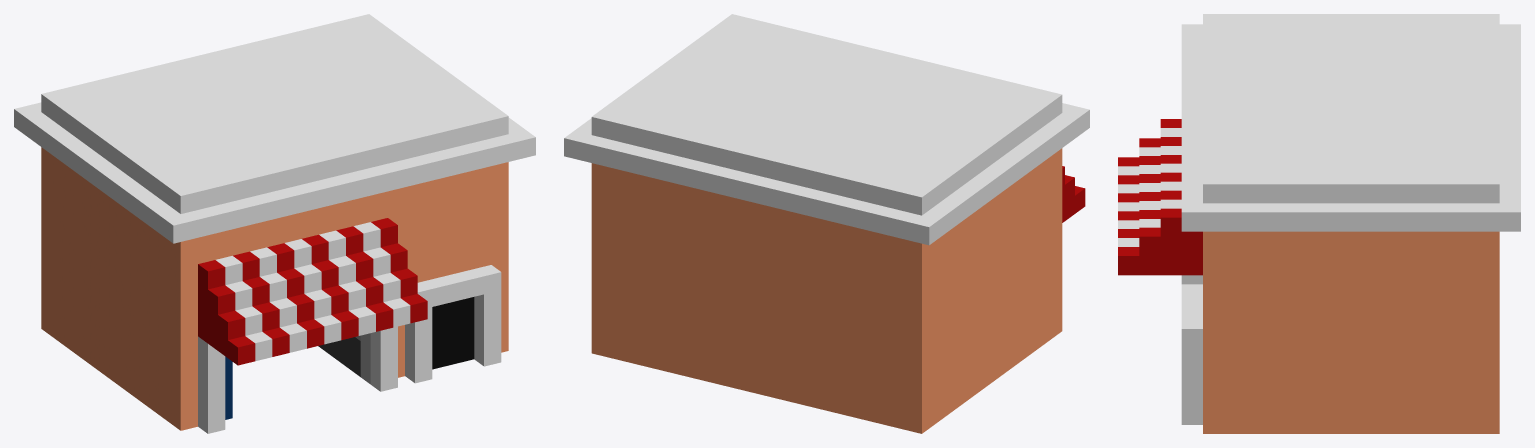
File: tienda1.fbx
3 views of the same model, side by side, from view 1: azimuth 30°, elevation 25°; view 2: azimuth 150°, elevation 25°; view 3: azimuth 270°, elevation 25° (orthographic). The views are drawn at different scales.
Visible parts, largest first — view 1: Cubo.1870; view 2: Cubo.1870; view 3: Cubo.1870.
Part boxes in pixels (box(x1,y1,x2,y2)): Cubo.1870: box(14, 14, 535, 433); Cubo.1870: box(564, 14, 1089, 433); Cubo.1870: box(1118, 14, 1520, 433).
Size of the model in its own units: 2100 by 1300 by 1900.
